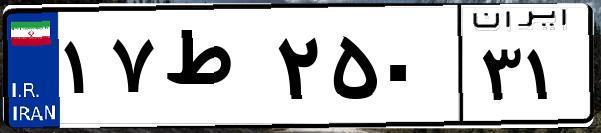0: (385, 28, 445, 110)
1: (57, 26, 110, 100), (525, 38, 570, 115)
2: (270, 28, 330, 110)
3: (475, 38, 525, 113)
5: (330, 28, 385, 110)
7: (110, 28, 158, 98)
ط: (158, 20, 270, 120)
